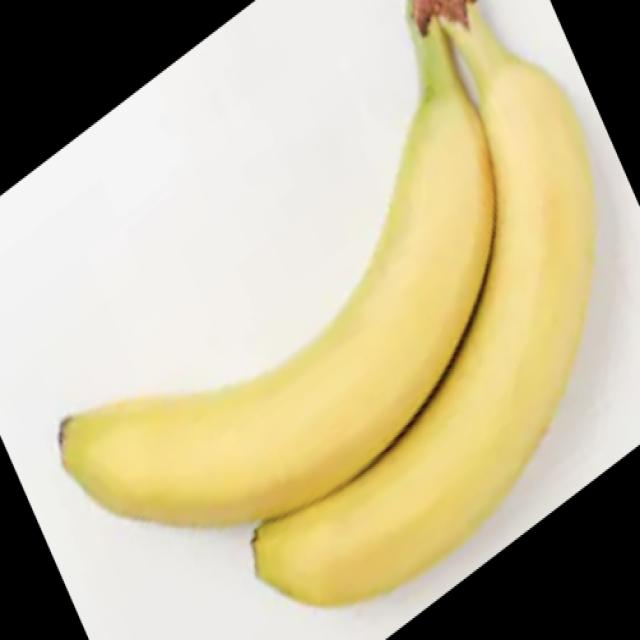god quality banana: (60, 0, 597, 605)
